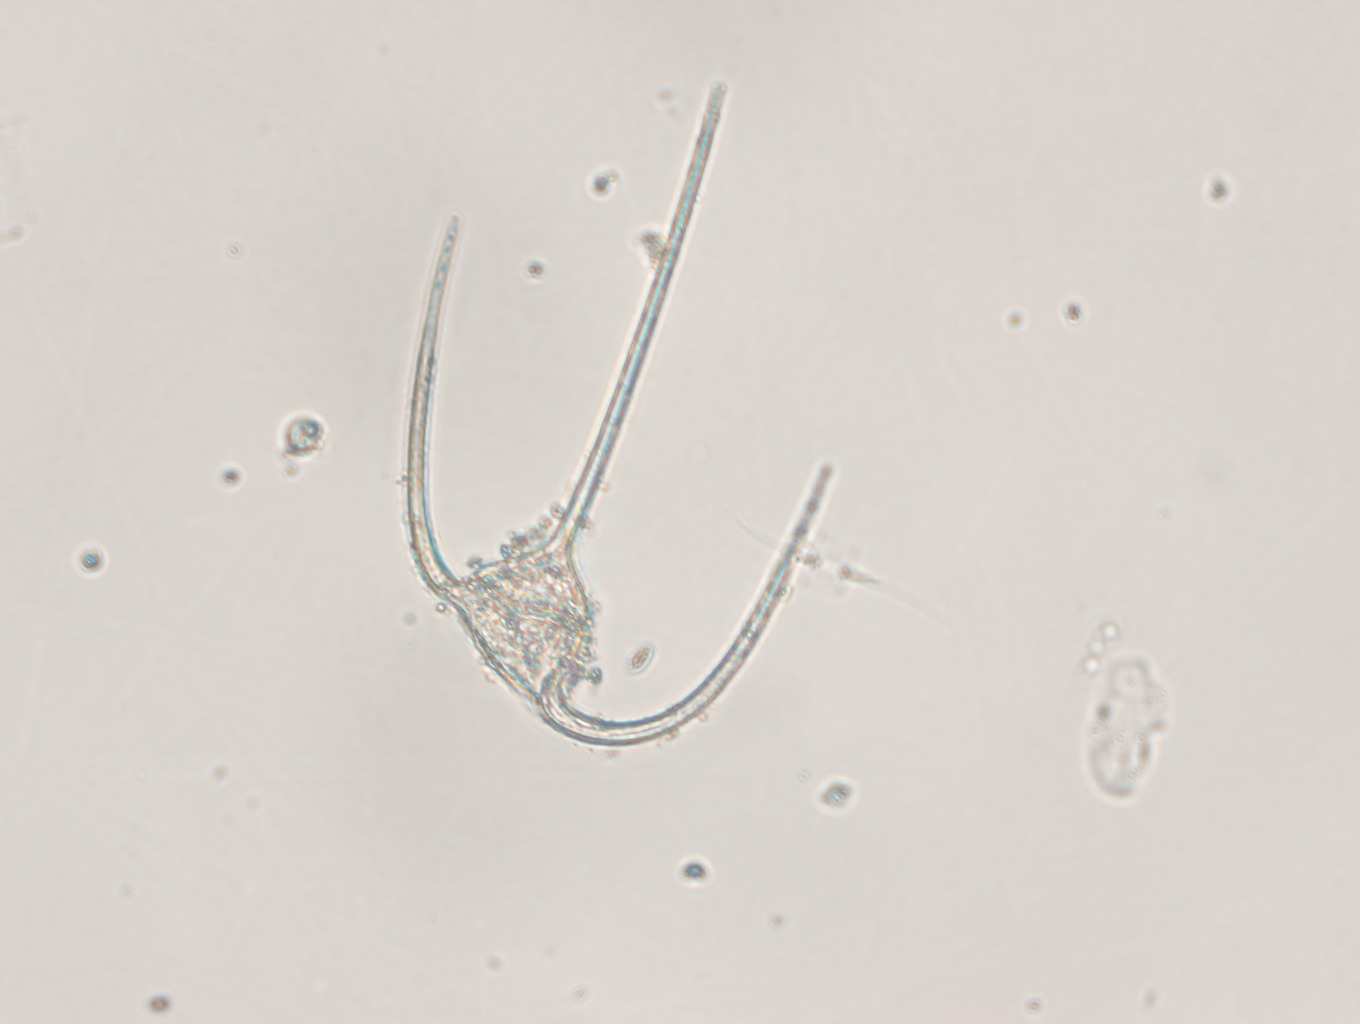ceratium tripos: (388, 83, 846, 768)
